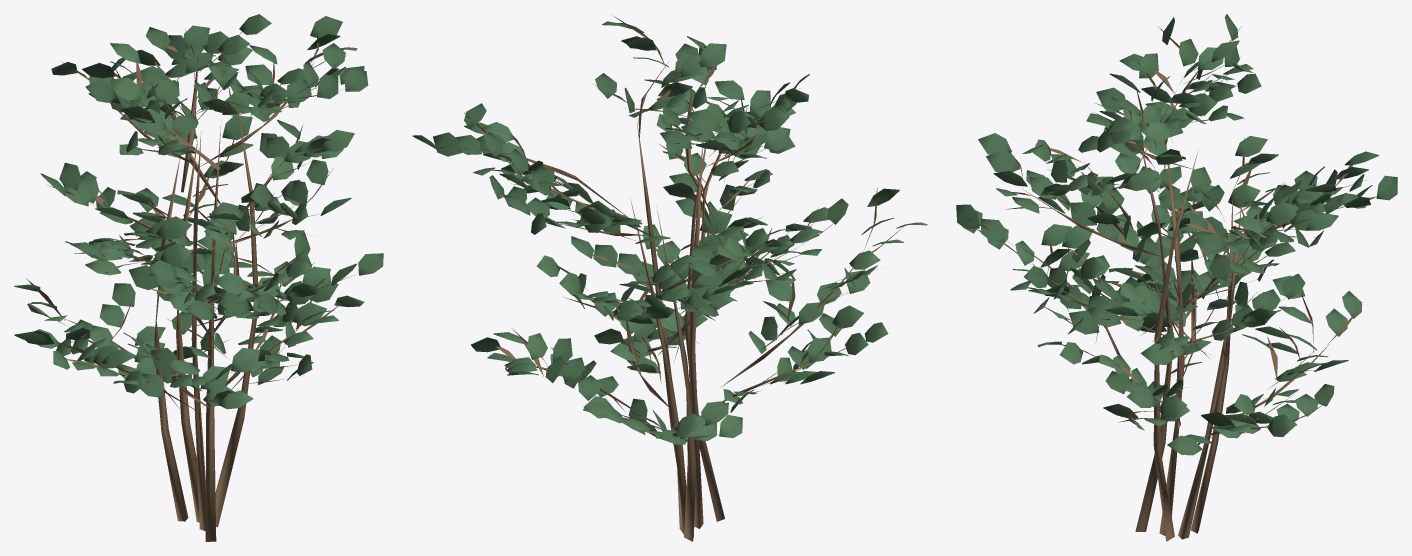
Rendered from Myrte_1_LOD2.fbx.
3 renders of one model, left to right at view 1: azimuth 30°, elevation 25°; view 2: azimuth 150°, elevation 25°; view 3: azimuth 270°, elevation 25°, orthographic.
Visible parts, largest first — view 1: Myrte_1_LOD2; view 2: Myrte_1_LOD2; view 3: Myrte_1_LOD2.
Boxes of the visible parts, x1,y1,x2,y2 form: Myrte_1_LOD2: (14, 14, 383, 541); Myrte_1_LOD2: (412, 16, 927, 541); Myrte_1_LOD2: (956, 14, 1397, 541).
Bounding box in the file's own units: 200 × 224 × 191.
